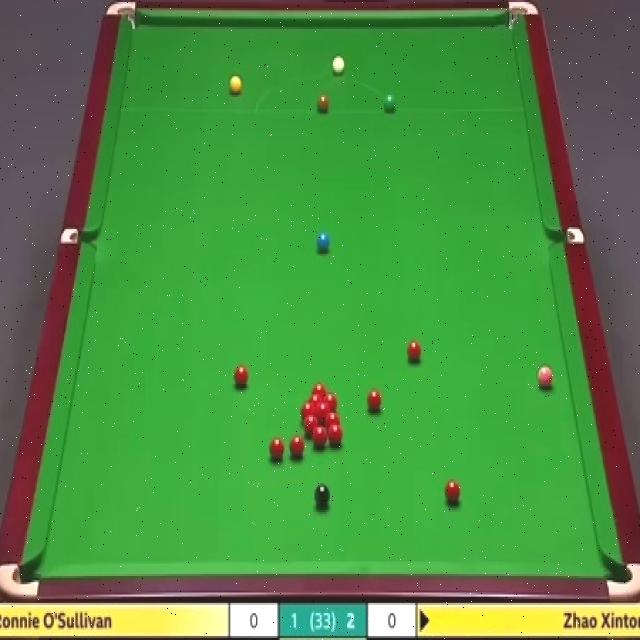black-ball: (314, 484, 331, 508)
blue-ball: (316, 230, 331, 254)
brown-ball: (317, 94, 330, 113)
green-ball: (383, 92, 396, 112)
pink-ball: (445, 367, 463, 392)
red-ball: (379, 347, 396, 372), (312, 424, 328, 448), (271, 434, 287, 458), (407, 457, 423, 481), (289, 436, 304, 461), (328, 422, 343, 447), (365, 388, 380, 413), (233, 365, 248, 389), (321, 393, 338, 410), (303, 415, 318, 434), (324, 412, 340, 426), (300, 402, 316, 415), (316, 403, 330, 417), (311, 382, 328, 393), (308, 393, 325, 402)
white-ball: (331, 54, 346, 76)
yellow-ball: (230, 73, 242, 96)
